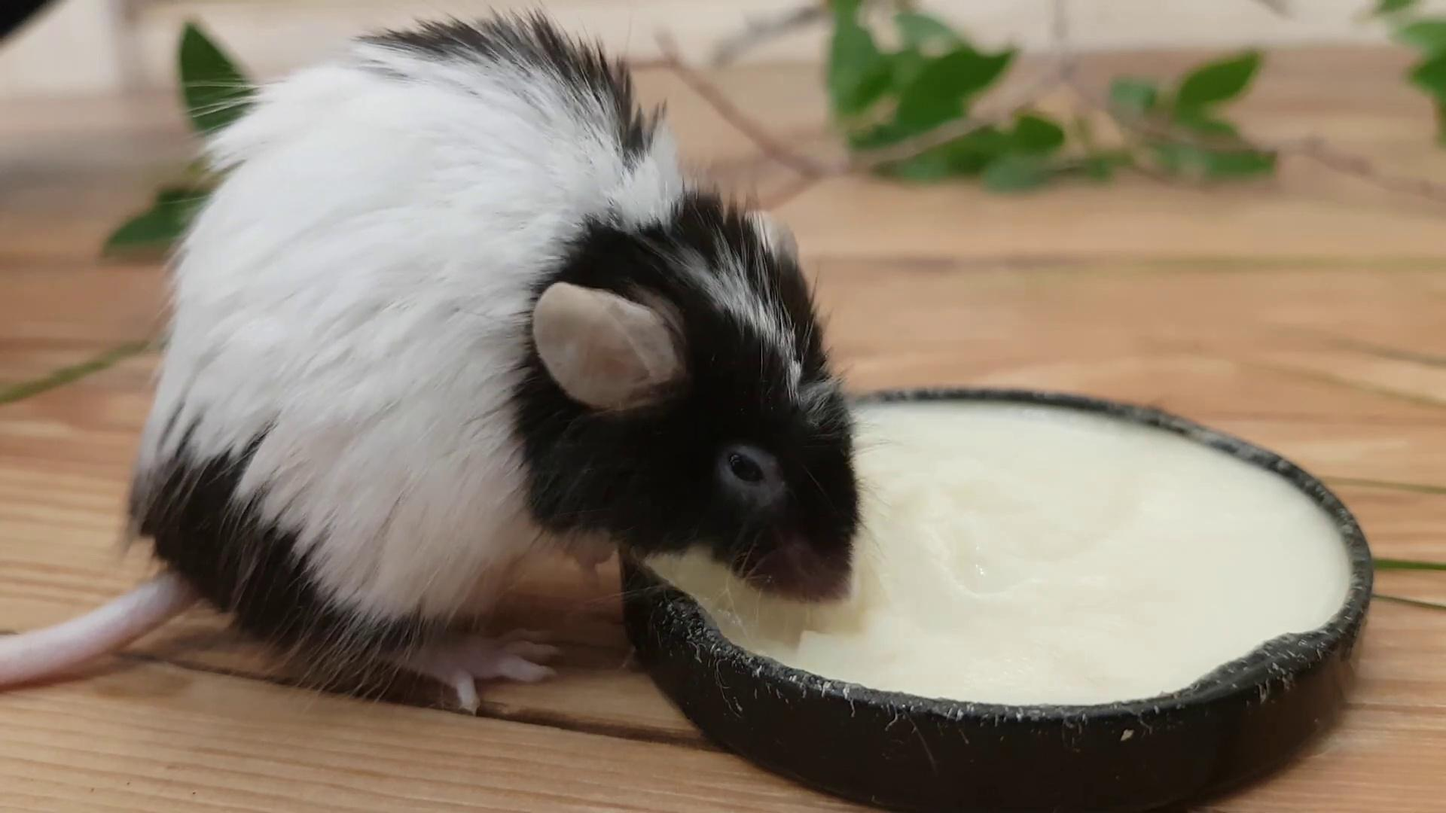rat: (0, 5, 864, 711)
